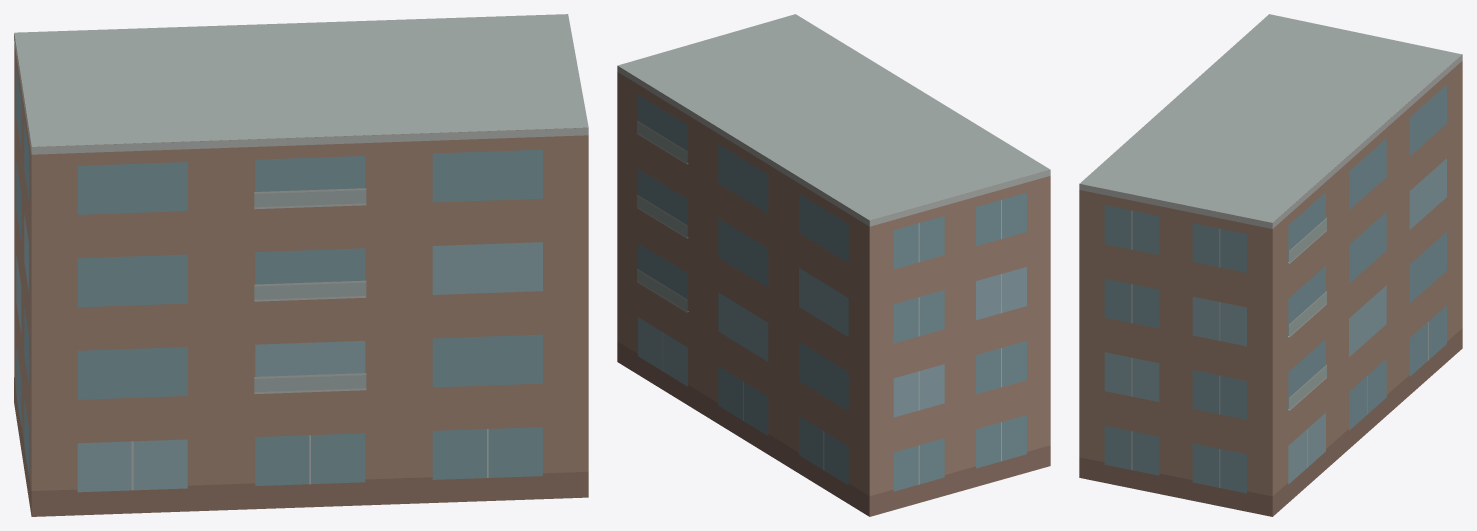
The model's file is survey-upis-33009392.glb.
3 renders of one model, left to right at view 1: azimuth 30°, elevation 25°; view 2: azimuth 150°, elevation 25°; view 3: azimuth 270°, elevation 25°, orthographic. The views are drawn at different scales.
Visible parts, largest first — view 1: survey-upis-33009392.tmp; view 2: survey-upis-33009392.tmp; view 3: survey-upis-33009392.tmp.
Boxes of the visible parts, x1,y1,x2,y2 form: survey-upis-33009392.tmp: (14,14,588,516); survey-upis-33009392.tmp: (617,14,1050,516); survey-upis-33009392.tmp: (1079,14,1462,516).
Bounding box in the file's own units: 17.84 × 11.7 × 13.83.
